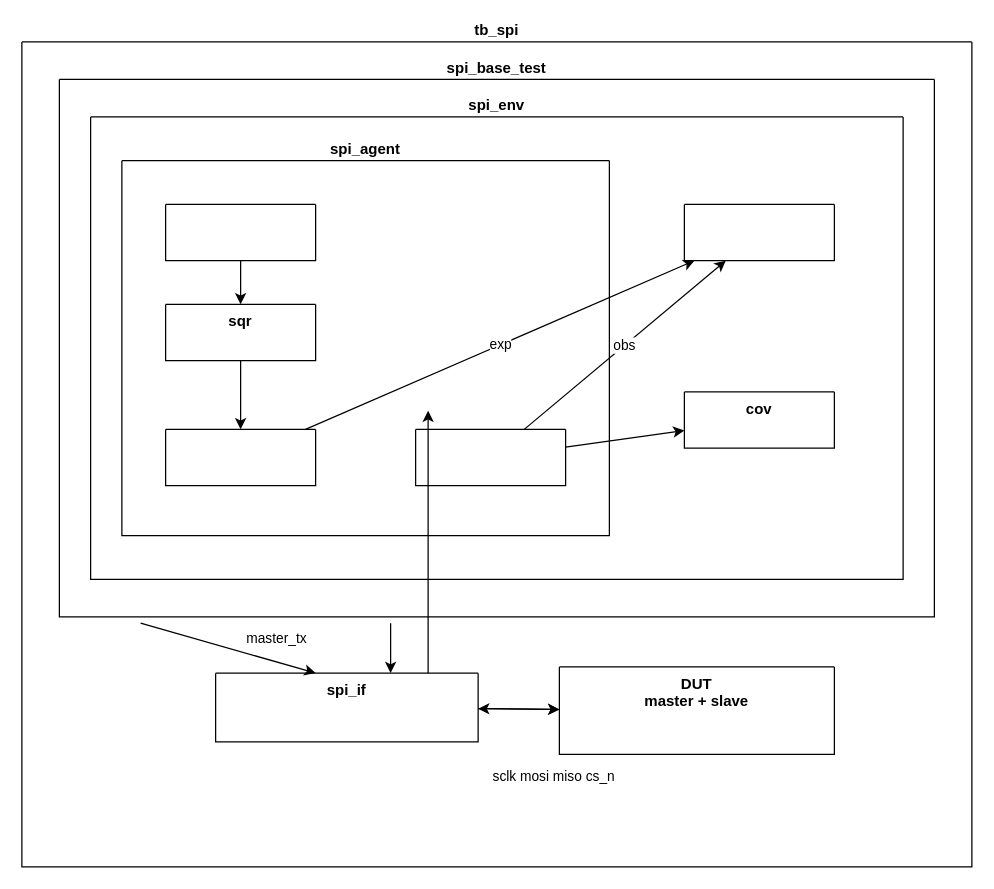
Some shapes in this 994 by 889 pixel diagram are drawn without their labels. The centre of each missing label's shape, as x and y in pixels:
drv: (x=240, y=457)
mon: (x=490, y=457)
scb: (x=758, y=232)
seq: (x=240, y=232)
